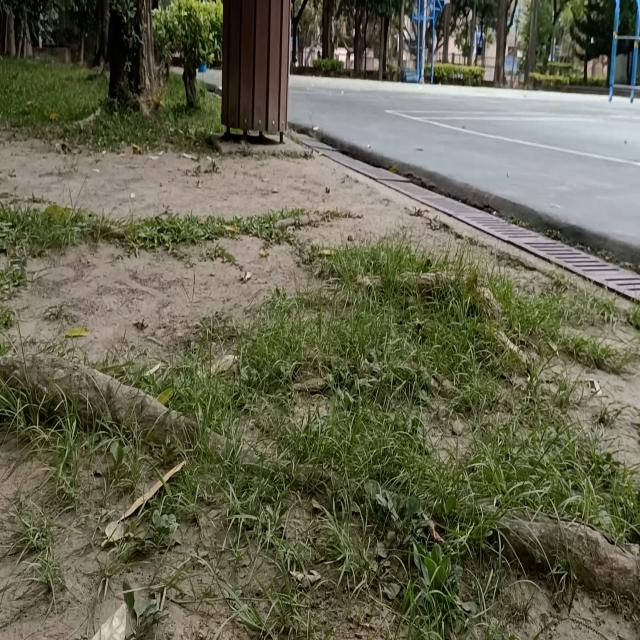grass: (0, 231, 640, 639), (0, 59, 223, 150), (0, 202, 305, 258)
white-sand: (0, 139, 557, 271), (10, 236, 306, 358)
